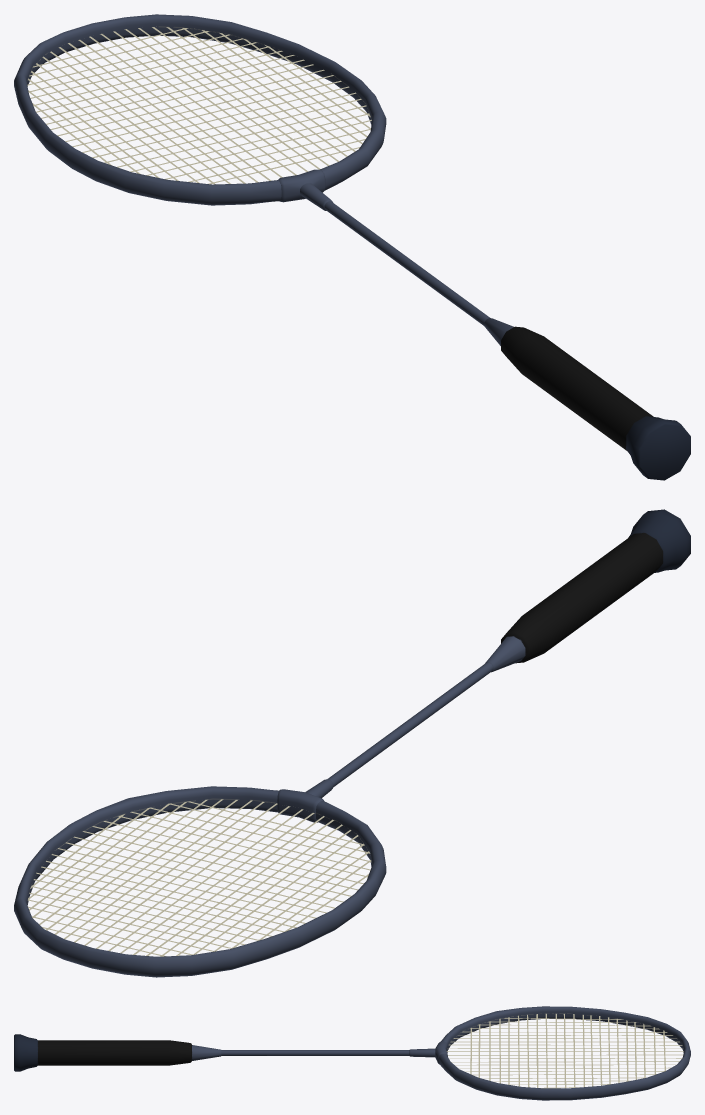
File: badminton_racket.FBX
3 views of the same model, one above another, from view 1: azimuth 30°, elevation 25°; view 2: azimuth 150°, elevation 25°; view 3: azimuth 270°, elevation 25° (orthographic). The views are drawn at different scales.
Parts seen in each view (by area): view 1: badminton_racket; view 2: badminton_racket; view 3: badminton_racket.
Boxes of the visible parts, bbox=[...] form: badminton_racket: bbox=[14, 14, 690, 480]; badminton_racket: bbox=[14, 509, 690, 977]; badminton_racket: bbox=[14, 1006, 690, 1100].
Size of the model in its own units: 32.57 by 6.12 by 110.
1 material, 1 textured.
